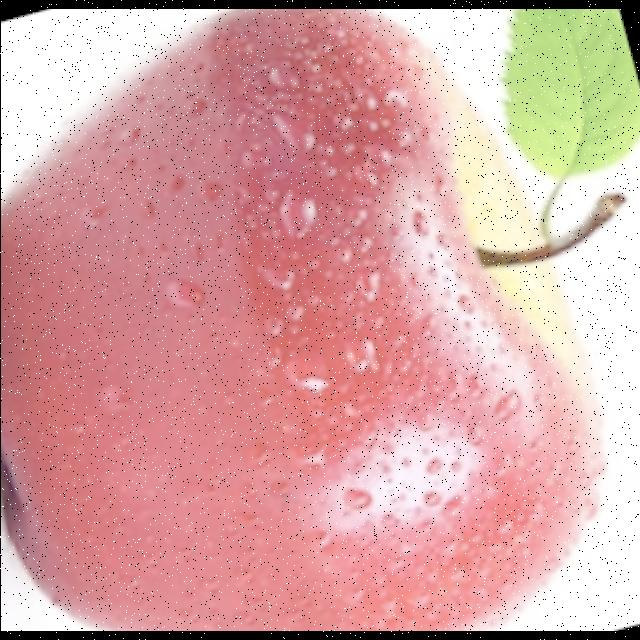Apel Segar: (0, 9, 606, 631)
